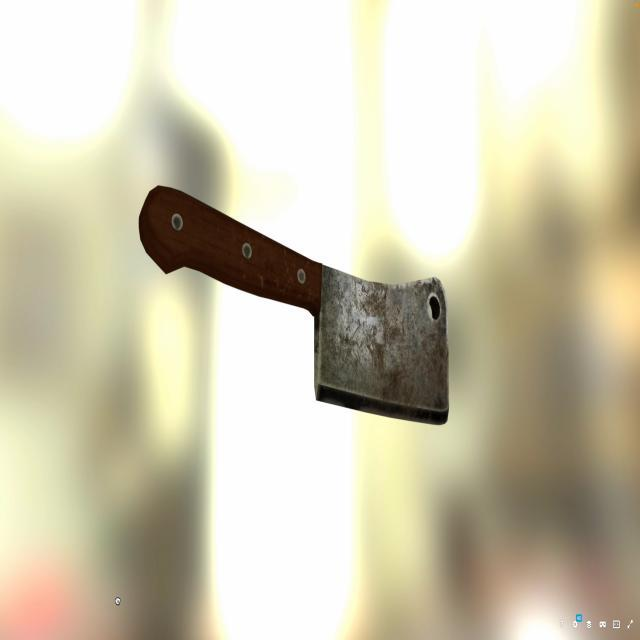cleaver: (136, 191, 454, 431)
